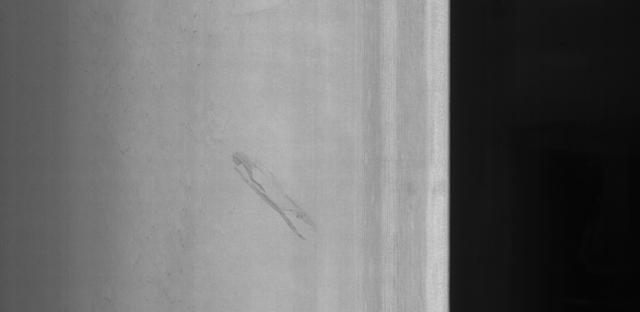water_spot: (198, 149, 322, 243)
